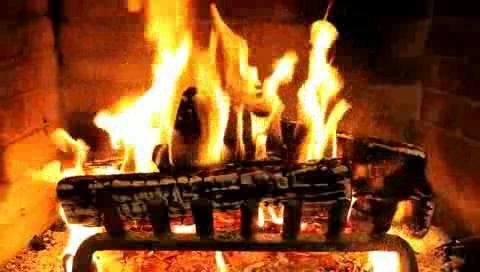fire: (98, 3, 367, 193)
